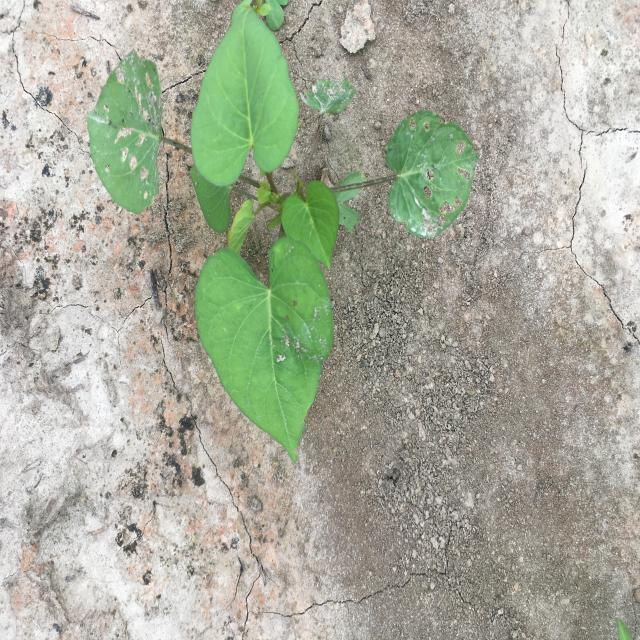MorningGlory: (86, 5, 482, 463)
